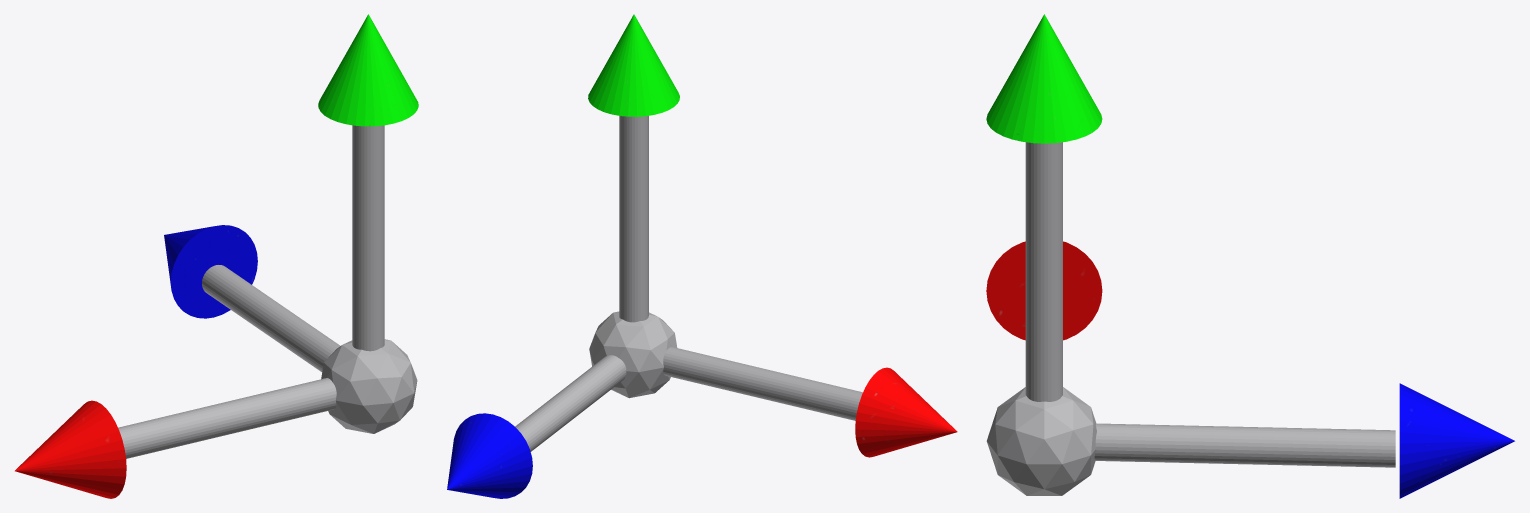
The model's file is flechas-xyz.obj.
3 views of the same model, side by side, from view 1: azimuth 30°, elevation 25°; view 2: azimuth 150°, elevation 25°; view 3: azimuth 270°, elevation 25° (orthographic). The views are drawn at different scales.
Parts seen in each view (by area): view 1: Cube; view 2: Cube; view 3: Cube.
Boxes of the visible parts, x1,y1,x2,y2 form: Cube: [15, 14, 418, 498]; Cube: [447, 14, 957, 498]; Cube: [986, 14, 1514, 498].
Bounding box in the file's own units: 4.87 × 4.87 × 4.87.
